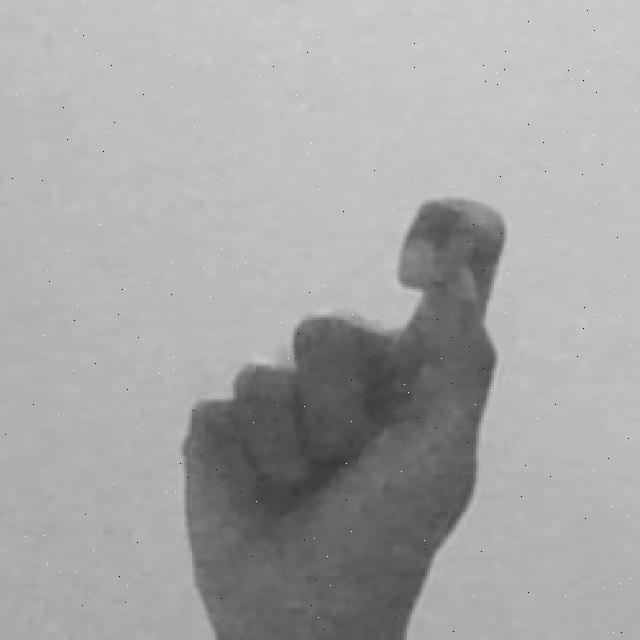T: (175, 192, 515, 640)
